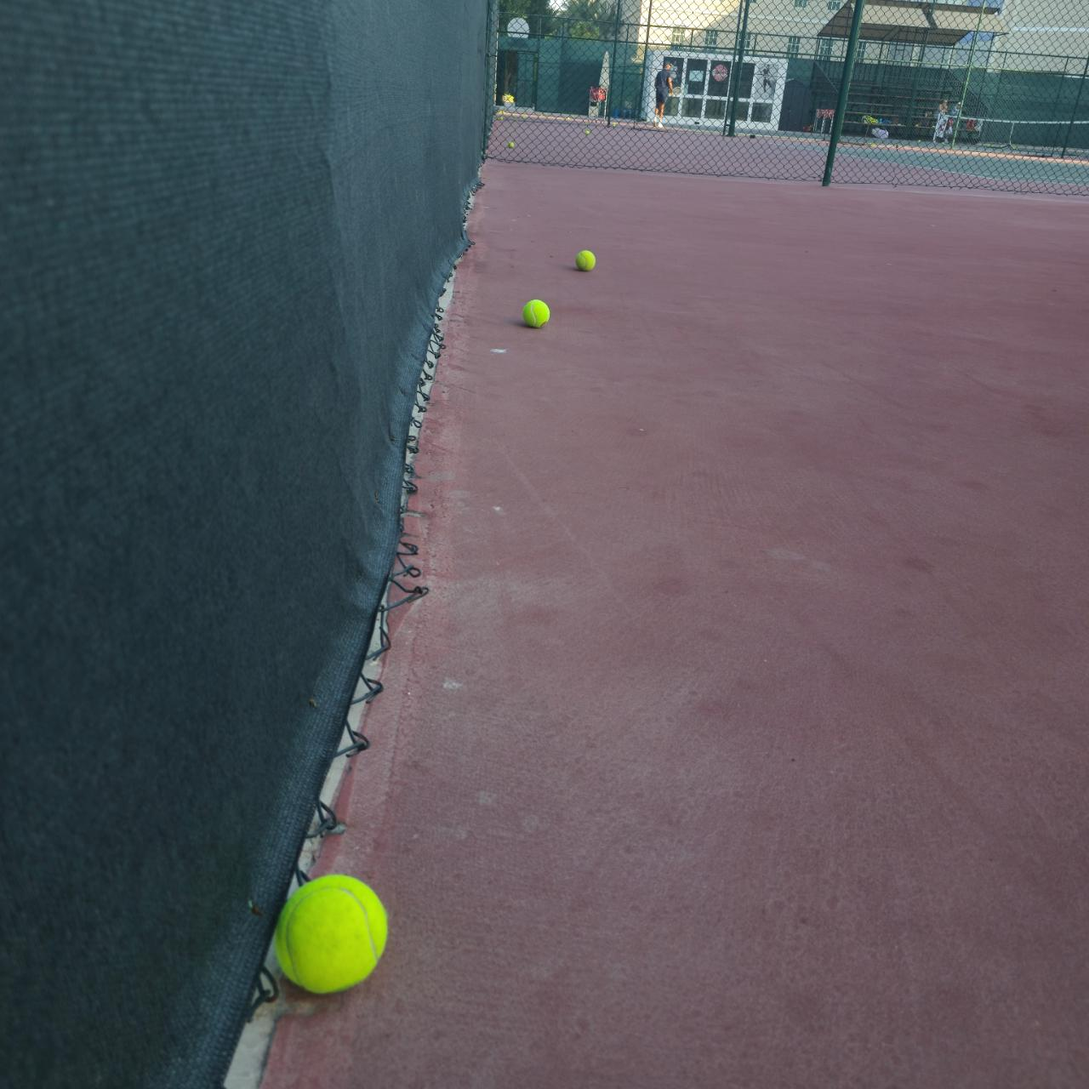tennis-ball: (273, 870, 391, 996), (522, 296, 552, 328), (576, 250, 596, 272), (508, 141, 515, 149)
